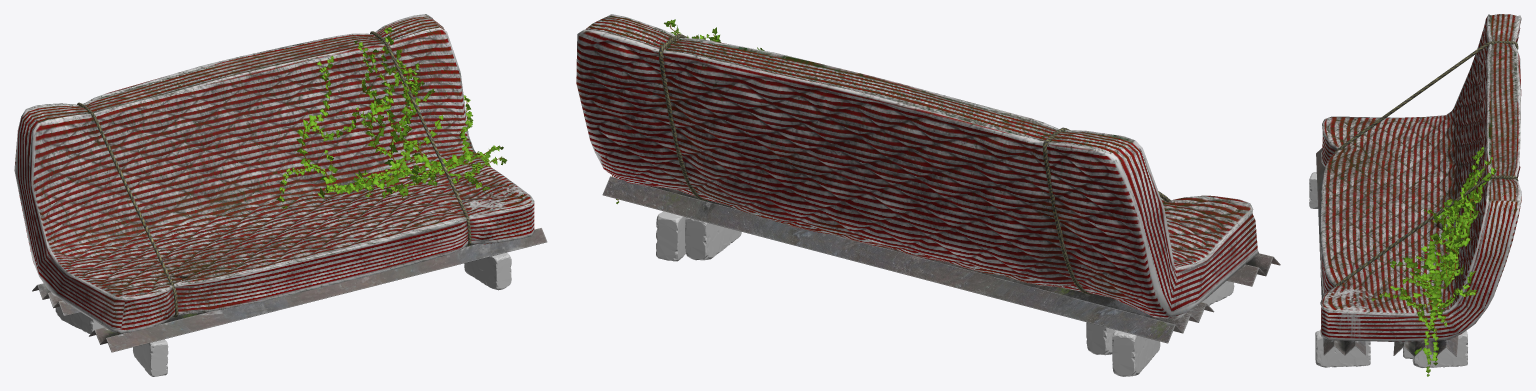
Rendered from Sofa_Final.fbx.
3 renders of one model, left to right at view 1: azimuth 30°, elevation 25°; view 2: azimuth 150°, elevation 25°; view 3: azimuth 270°, elevation 25°, orthographic. The views are drawn at different scales.
Visible parts, largest first — view 1: Cube.004_Cube.006, Cube_Cube.001, BezierCurve.001, Cube.005_Cube.010, Brick, Brick.001, Brick.002, Cube.001_Cube.002; view 2: Cube.004_Cube.006, Cube.001_Cube.002, BezierCurve.001, Brick.002, Brick.005, Brick.004, Cube_Cube.001, Brick.003; view 3: Cube.004_Cube.006, BezierCurve.001, Brick, Cube_Cube.001, Brick.004, Cube.005_Cube.010, Cube.001_Cube.002, Brick.001.
Boxes of the visible parts, left/top/right/bottom form: Cube.004_Cube.006: left=14, top=14, right=534, bottom=333; Cube_Cube.001: left=89, top=228, right=547, bottom=352; BezierCurve.001: left=77, top=31, right=471, bottom=317; Cube.005_Cube.010: left=280, top=26, right=503, bottom=208; Brick: left=464, top=252, right=511, bottom=290; Brick.001: left=133, top=339, right=168, bottom=376; Brick.002: left=55, top=307, right=104, bottom=333; Cube.001_Cube.002: left=32, top=283, right=80, bottom=315; Cube.004_Cube.006: left=576, top=14, right=1258, bottom=318; Cube.001_Cube.002: left=602, top=176, right=1214, bottom=343; BezierCurve.001: left=658, top=34, right=1170, bottom=294; Brick.002: left=1112, top=330, right=1160, bottom=376; Brick.005: left=685, top=217, right=741, bottom=260; Brick.004: left=656, top=211, right=686, bottom=261; Cube_Cube.001: left=1227, top=253, right=1280, bottom=286; Brick.003: left=1086, top=322, right=1114, bottom=355; Cube.004_Cube.006: left=1320, top=14, right=1521, bottom=341; BezierCurve.001: left=1333, top=41, right=1518, bottom=287; Brick: left=1315, top=330, right=1370, bottom=367; Cube_Cube.001: left=1316, top=148, right=1365, bottom=355; Brick.004: left=1412, top=330, right=1467, bottom=367; Cube.005_Cube.010: left=1369, top=149, right=1497, bottom=373; Cube.001_Cube.002: left=1393, top=335, right=1458, bottom=356; Brick.001: left=1309, top=172, right=1318, bottom=208.
Size of what is drawn, in the model's own units: 299 by 123 by 127.
